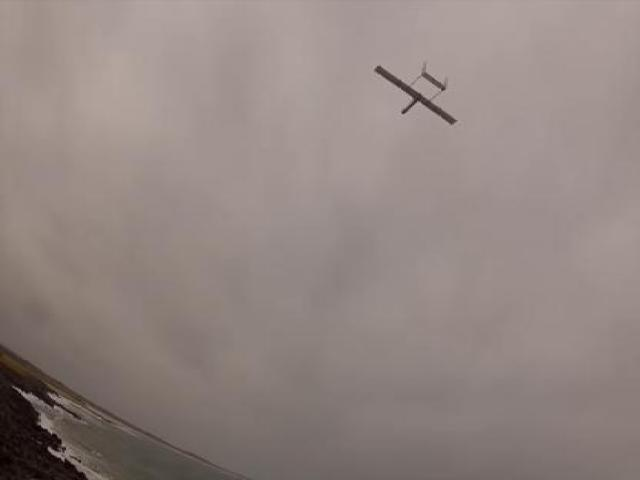uav: (367, 54, 462, 142)
